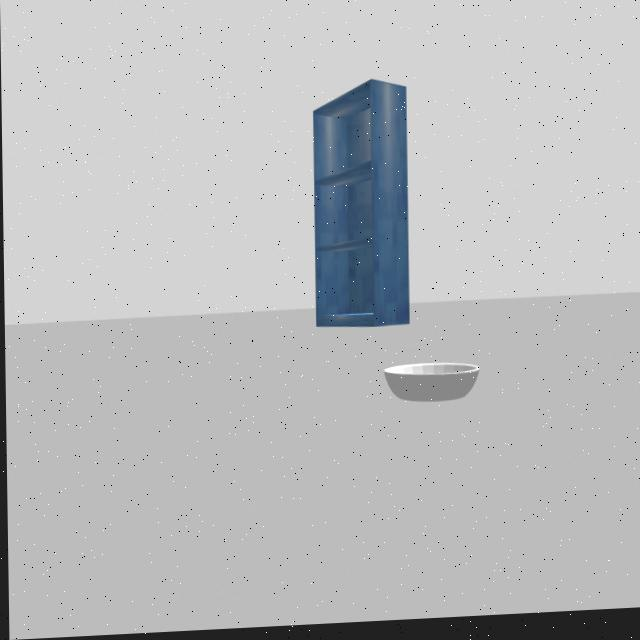bowl: (376, 347, 488, 424)
shelf: (298, 72, 417, 346)
